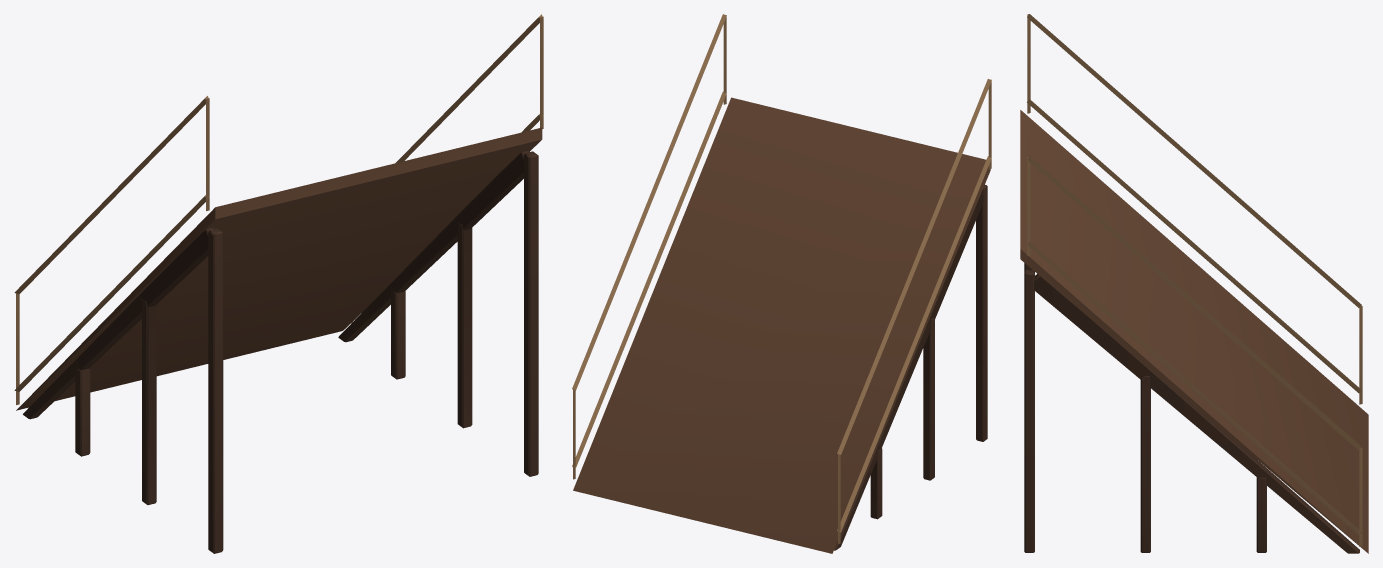
Rendered from qb_ramp_wood_lod1.glb.
3 renders of one model, left to right at view 1: azimuth 30°, elevation 25°; view 2: azimuth 150°, elevation 25°; view 3: azimuth 270°, elevation 25°, orthographic. The views are drawn at different scales.
Visible parts, largest first — view 1: qb_ramp_wood; view 2: qb_ramp_wood; view 3: qb_ramp_wood.
Boxes of the visible parts, x1,y1,x2,y2 form: qb_ramp_wood: (14, 14, 543, 553); qb_ramp_wood: (572, 14, 991, 553); qb_ramp_wood: (1020, 14, 1368, 553).
Bounding box in the file's own units: 2.94 × 3.8 × 3.
